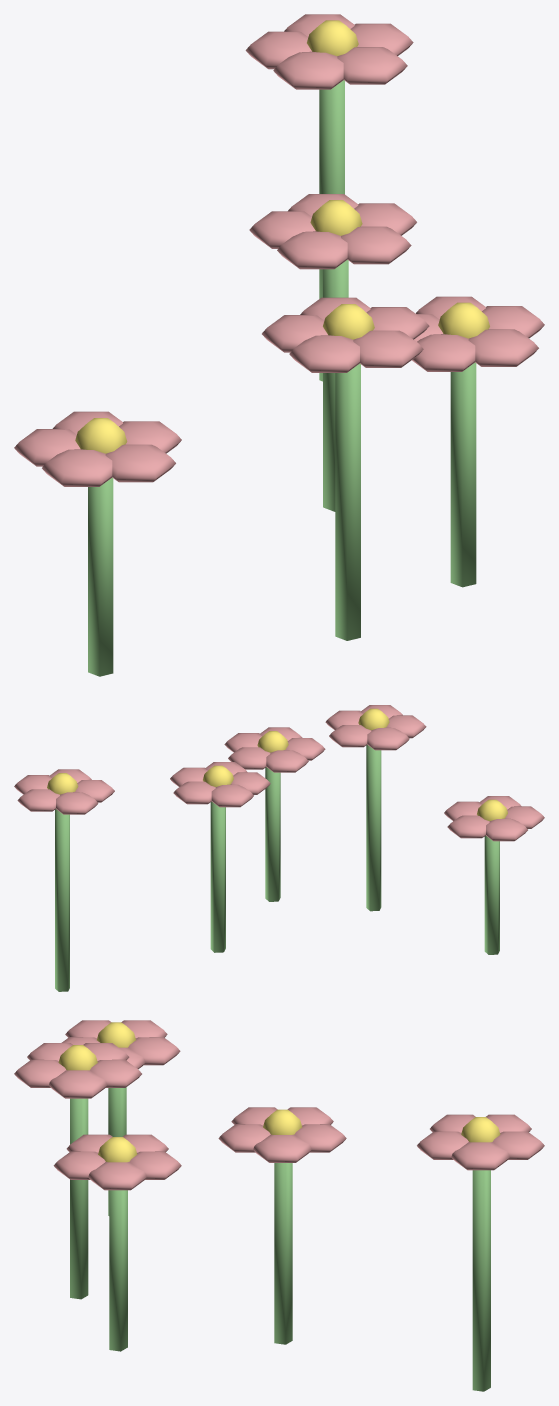
The model's file is env_forest_flower.glb.
3 views of the same model, one above another, from view 1: azimuth 30°, elevation 25°; view 2: azimuth 150°, elevation 25°; view 3: azimuth 270°, elevation 25° (orthographic). The views are drawn at different scales.
Parts seen in each view (by area): view 1: cone; view 2: cone; view 3: cone.
Part boxes in pixels (<box>): cone: <box>14,14,544,676</box>; cone: <box>14,705,544,991</box>; cone: <box>14,1020,544,1391</box>.
Bounding box in the file's own units: 1.04 × 0.5864 × 1.05.
